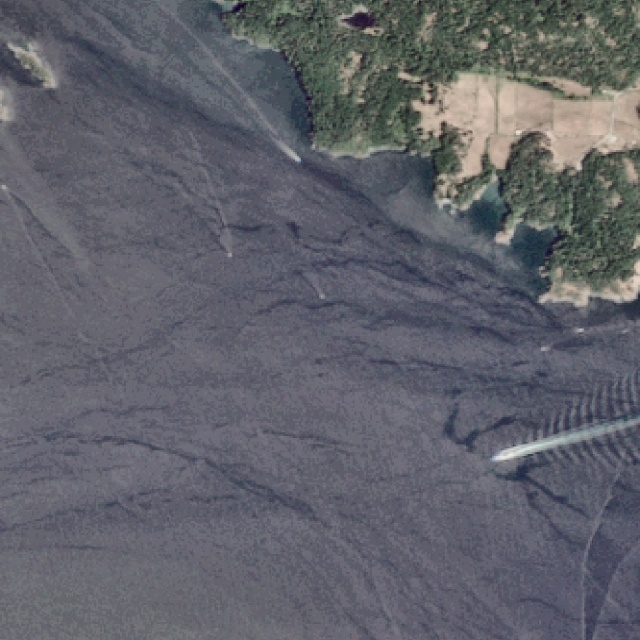wake: (478, 387, 636, 495)
